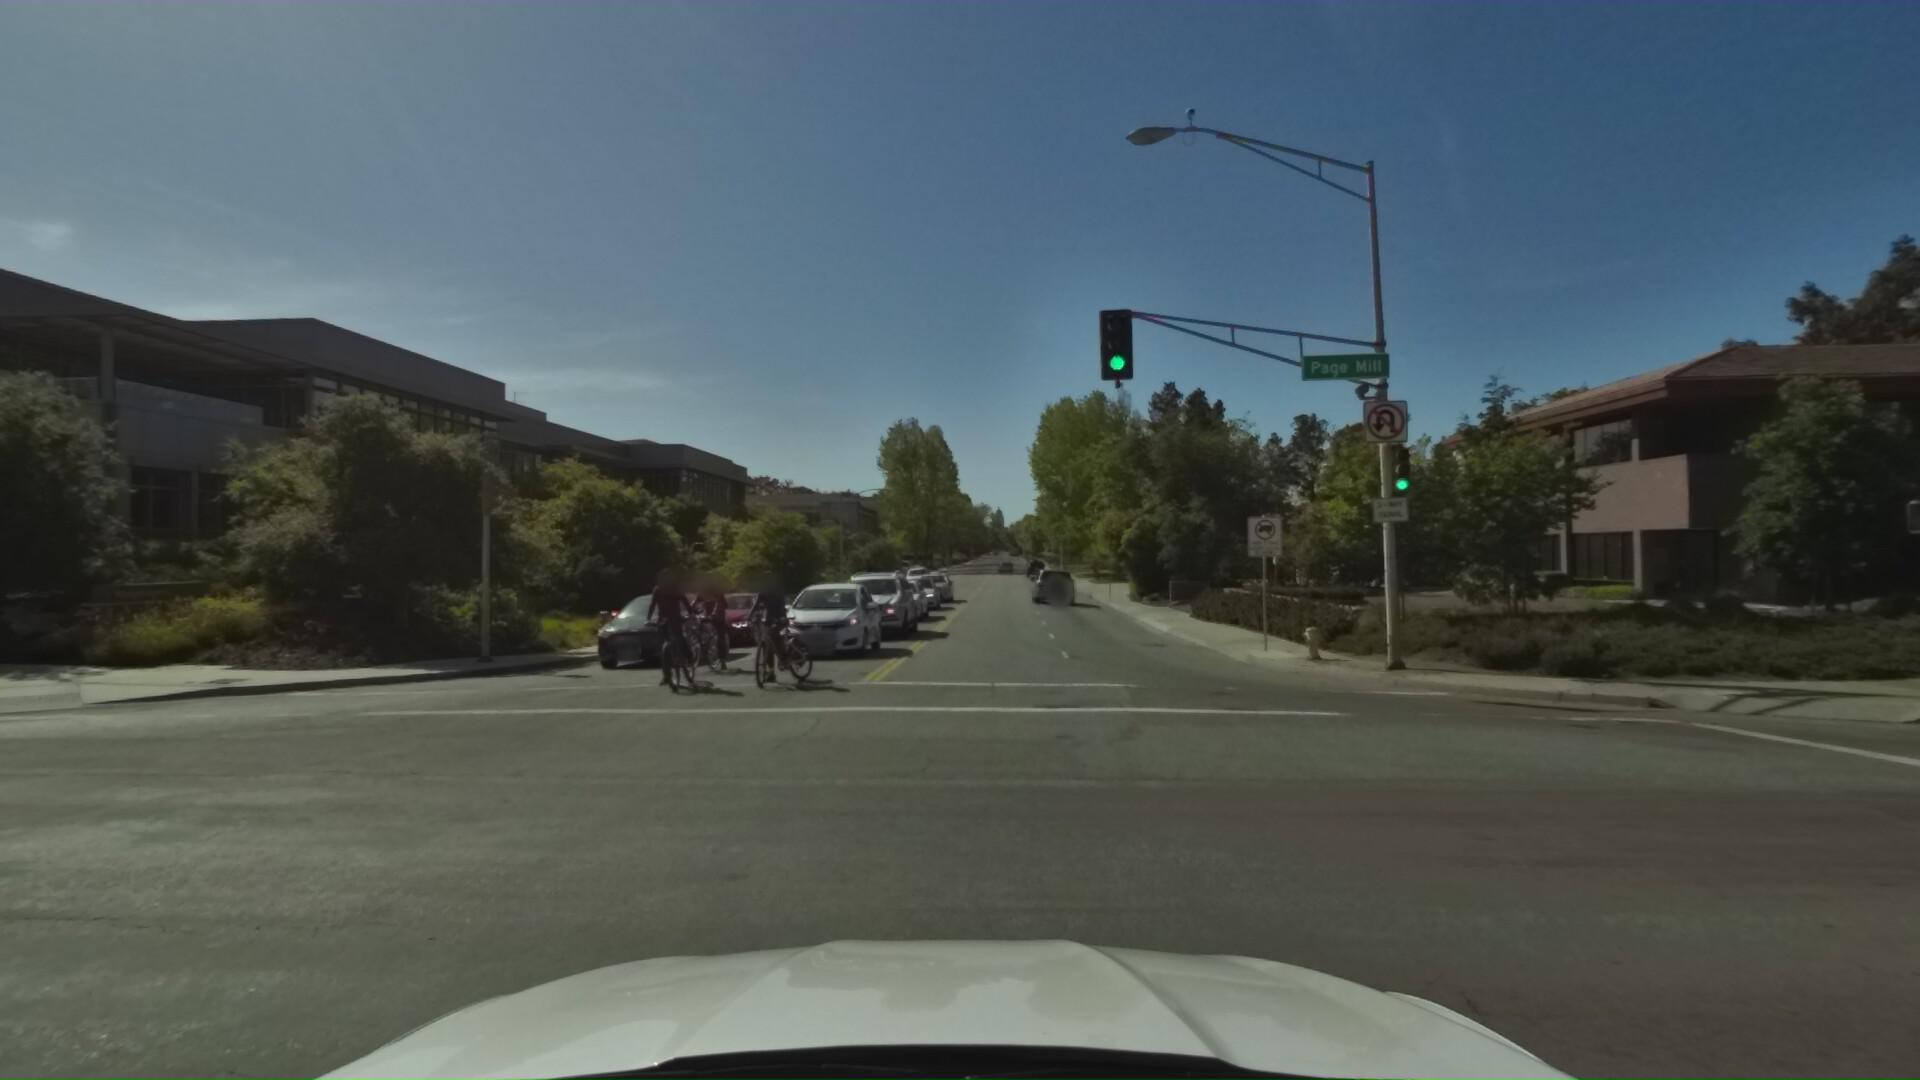bicycle: (712, 553, 814, 694), (612, 555, 705, 702), (655, 556, 735, 679)
car: (571, 579, 735, 679), (766, 570, 884, 665), (827, 560, 919, 642), (678, 582, 783, 650), (862, 570, 932, 621), (893, 567, 942, 608), (1027, 558, 1072, 597), (913, 564, 955, 599)
